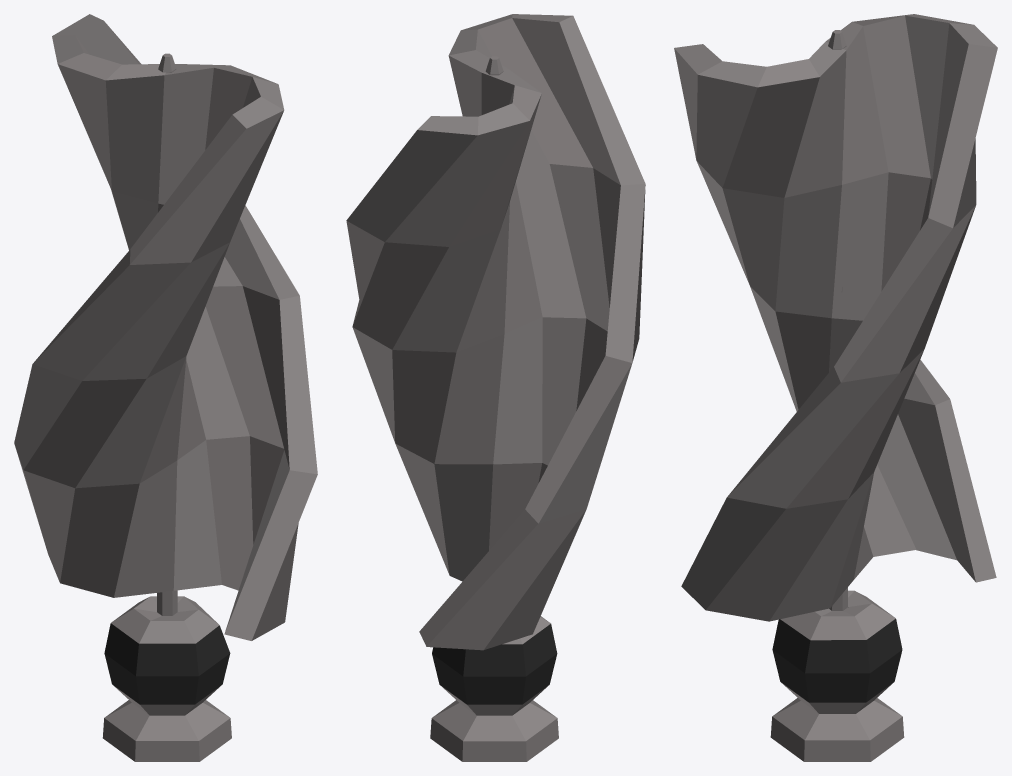
File: scifi-wind-turbine.glb
3 renders of one model, left to right at view 1: azimuth 30°, elevation 25°; view 2: azimuth 150°, elevation 25°; view 3: azimuth 270°, elevation 25°, orthographic. The views are drawn at different scales.
Visible parts, largest first — view 1: scifi-wind-turbine-main, scifi-wind-turbine-base; view 2: scifi-wind-turbine-main, scifi-wind-turbine-base; view 3: scifi-wind-turbine-main, scifi-wind-turbine-base.
Boxes of the visible parts, box(x1,y1,x2,y2) form: scifi-wind-turbine-main: box(14, 14, 317, 640); scifi-wind-turbine-base: box(102, 596, 231, 761); scifi-wind-turbine-main: box(346, 14, 645, 650); scifi-wind-turbine-base: box(430, 616, 558, 761); scifi-wind-turbine-main: box(674, 14, 997, 621); scifi-wind-turbine-base: box(770, 590, 904, 761).
Size of the model in its own units: 1.05 by 2.54 by 1.05.
Materials: 1 (1 with a texture image).
